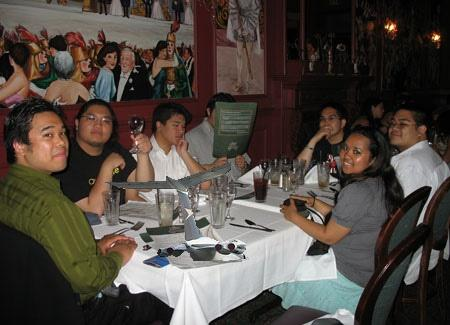tampered: (106, 163, 248, 261)
